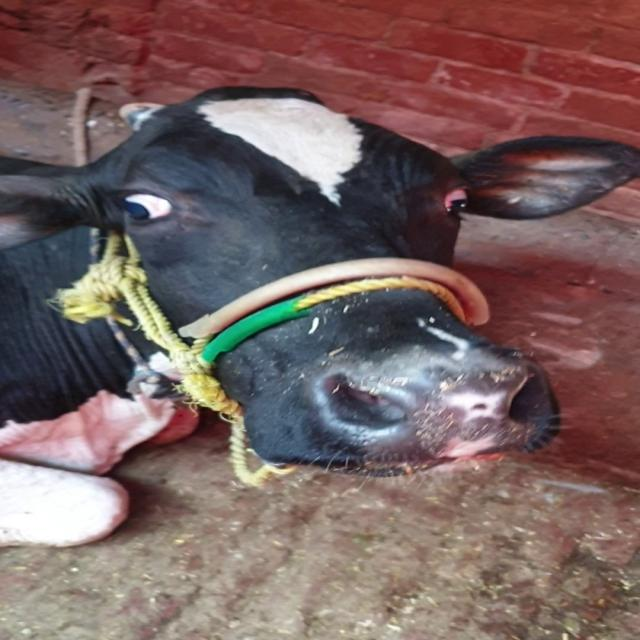cowFace: (83, 88, 601, 482)
